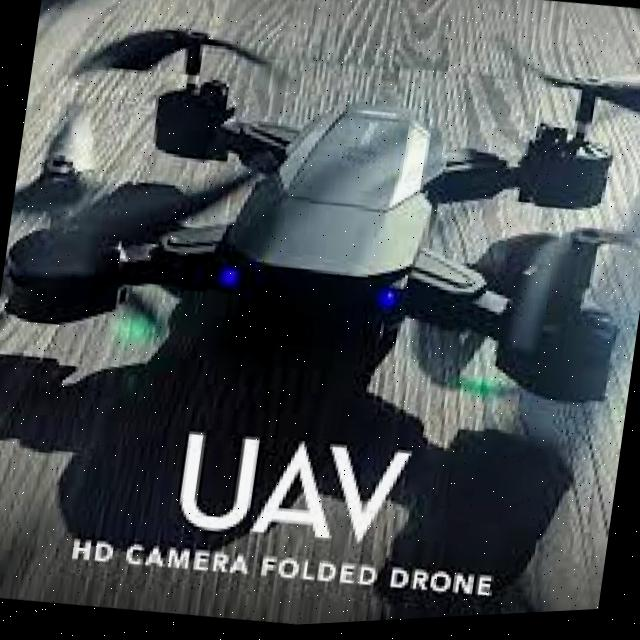drone: (0, 0, 640, 440)
